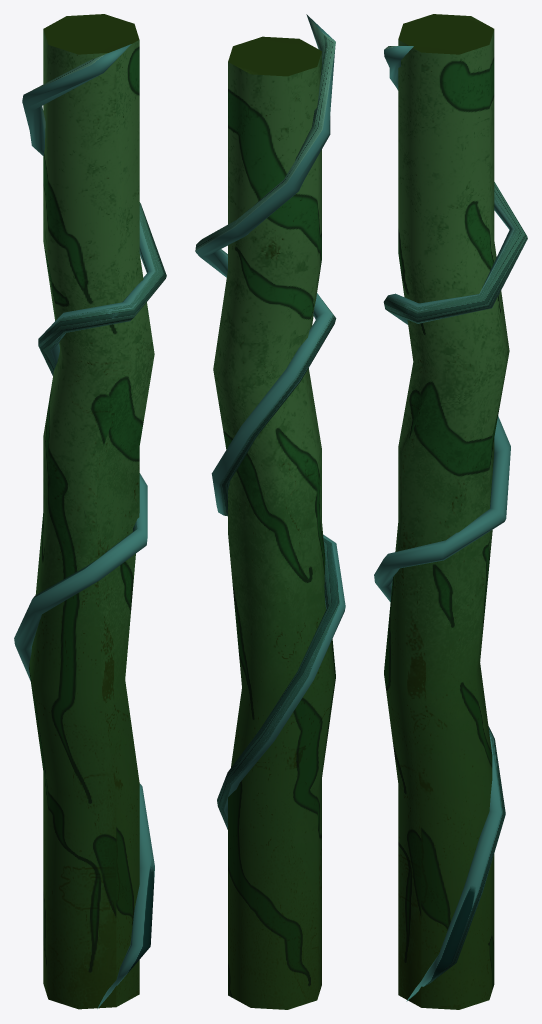
The model's file is liaan4.FBX.
3 renders of one model, left to right at view 1: azimuth 30°, elevation 25°; view 2: azimuth 150°, elevation 25°; view 3: azimuth 330°, elevation 25°, orthographic. The views are drawn at different scales.
Visible parts, largest first — view 1: Cylinder008, Cylinder009; view 2: Cylinder008, Cylinder009; view 3: Cylinder008, Cylinder009.
Boxes of the visible parts, x1,y1,x2,y2 form: Cylinder008: (29, 14, 154, 1009); Cylinder009: (14, 44, 166, 1008); Cylinder008: (213, 36, 335, 1009); Cylinder009: (195, 14, 345, 829); Cylinder008: (384, 14, 509, 1009); Cylinder009: (374, 46, 527, 1001).
Bounding box in the file's own units: 29.47 × 209 × 26.8.
